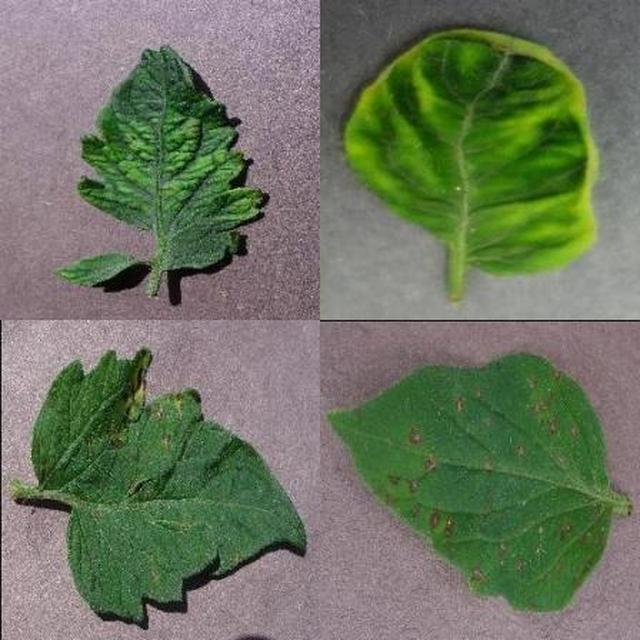Mosaic Virus Leaf: (239, 216, 640, 640)
